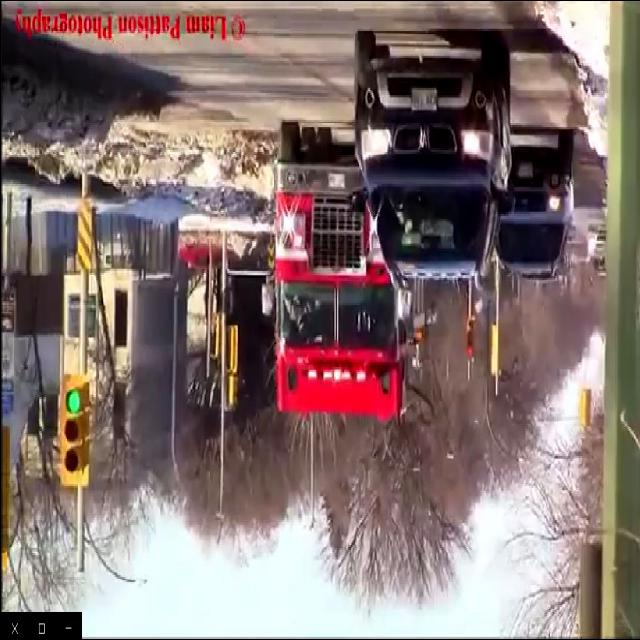emergency: (270, 127, 415, 420)
